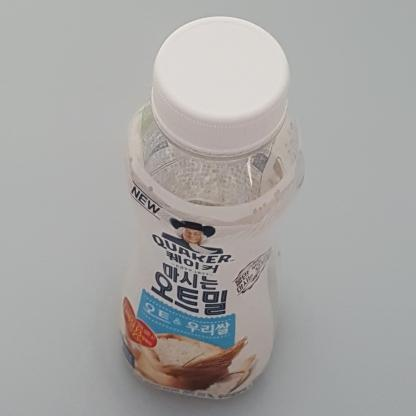---------50G: (118, 16, 305, 399)
